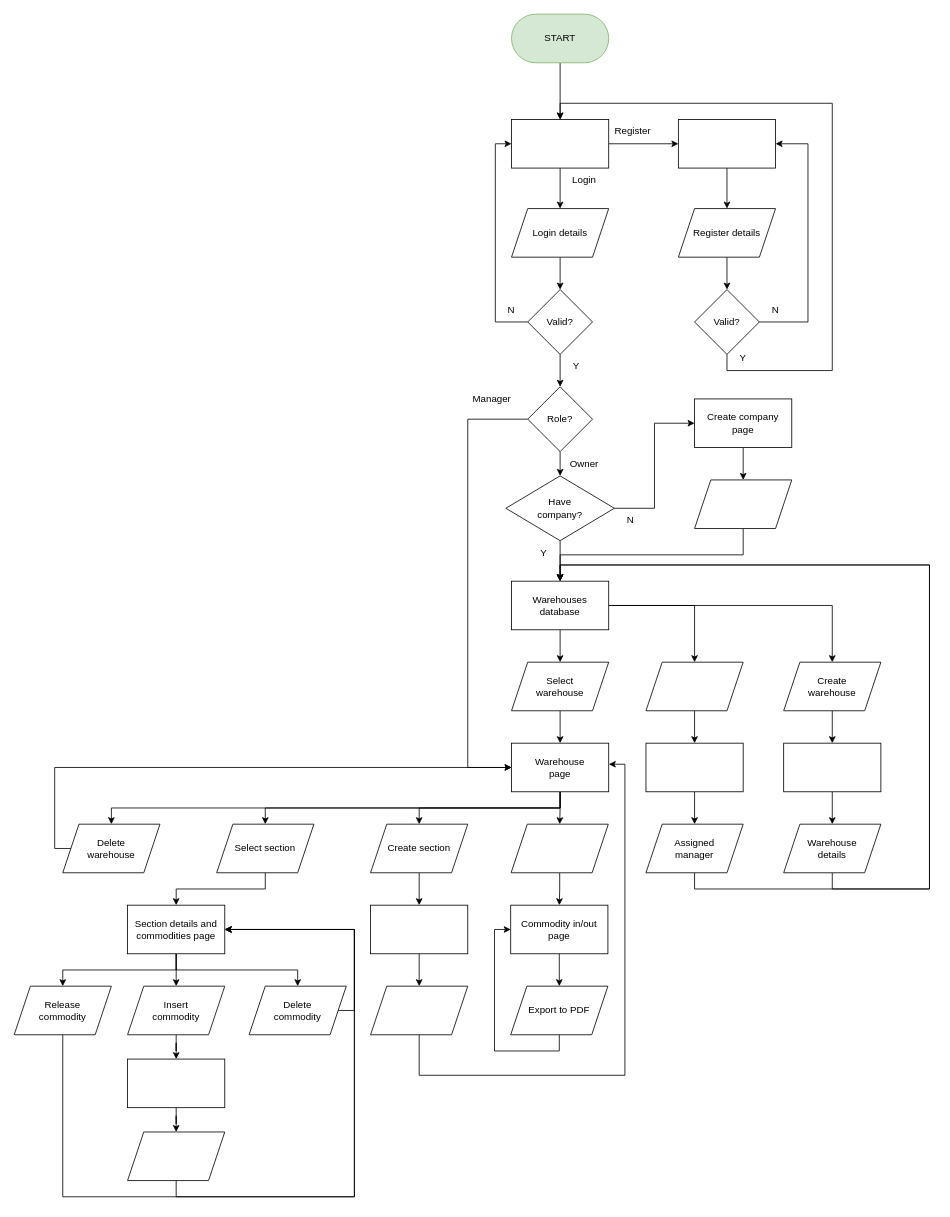
Some shapes in this 950 by 1217 pixel diagram are drawn without their labels. The shapes that lost their labels are listed below. From the top down, each one's centre as x and y in pixels, then its label:
At [560,143]: "Login page".
At [727,143]: "Register page".
At [743,504]: "Company details".
At [694,686]: "Assign manager to warehouse".
At [694,767]: "Manager assignment page".
At [832,767]: "Create warehouse page".
At [559,848]: "See commodity movement".
At [419,929]: "Section creation page".
At [419,1010]: "Section details".
At [176,1083]: "Commodity creation page".
At [176,1156]: "Commodity details".
